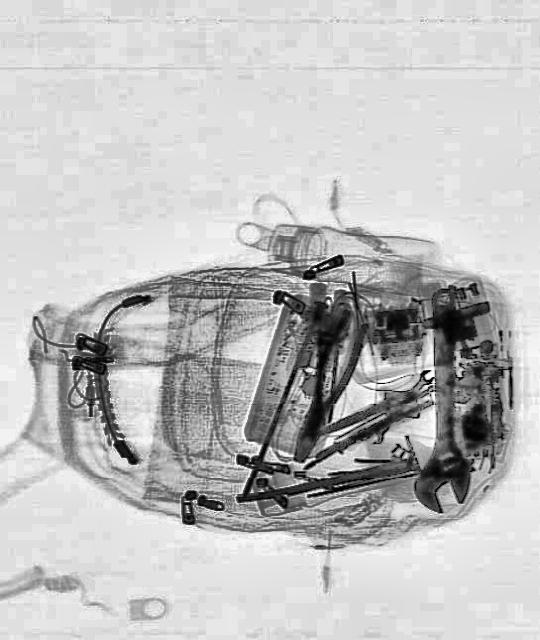Pliers: (278, 304, 374, 470)
Wrench: (414, 287, 474, 513), (364, 362, 438, 448)
